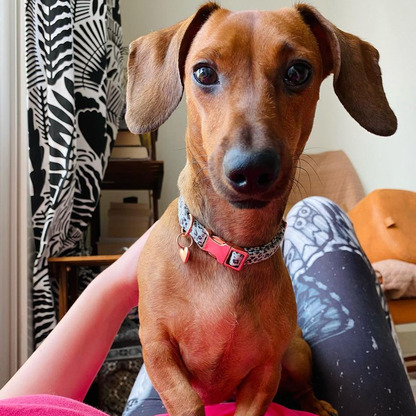dachshund: (130, 4, 385, 398)
